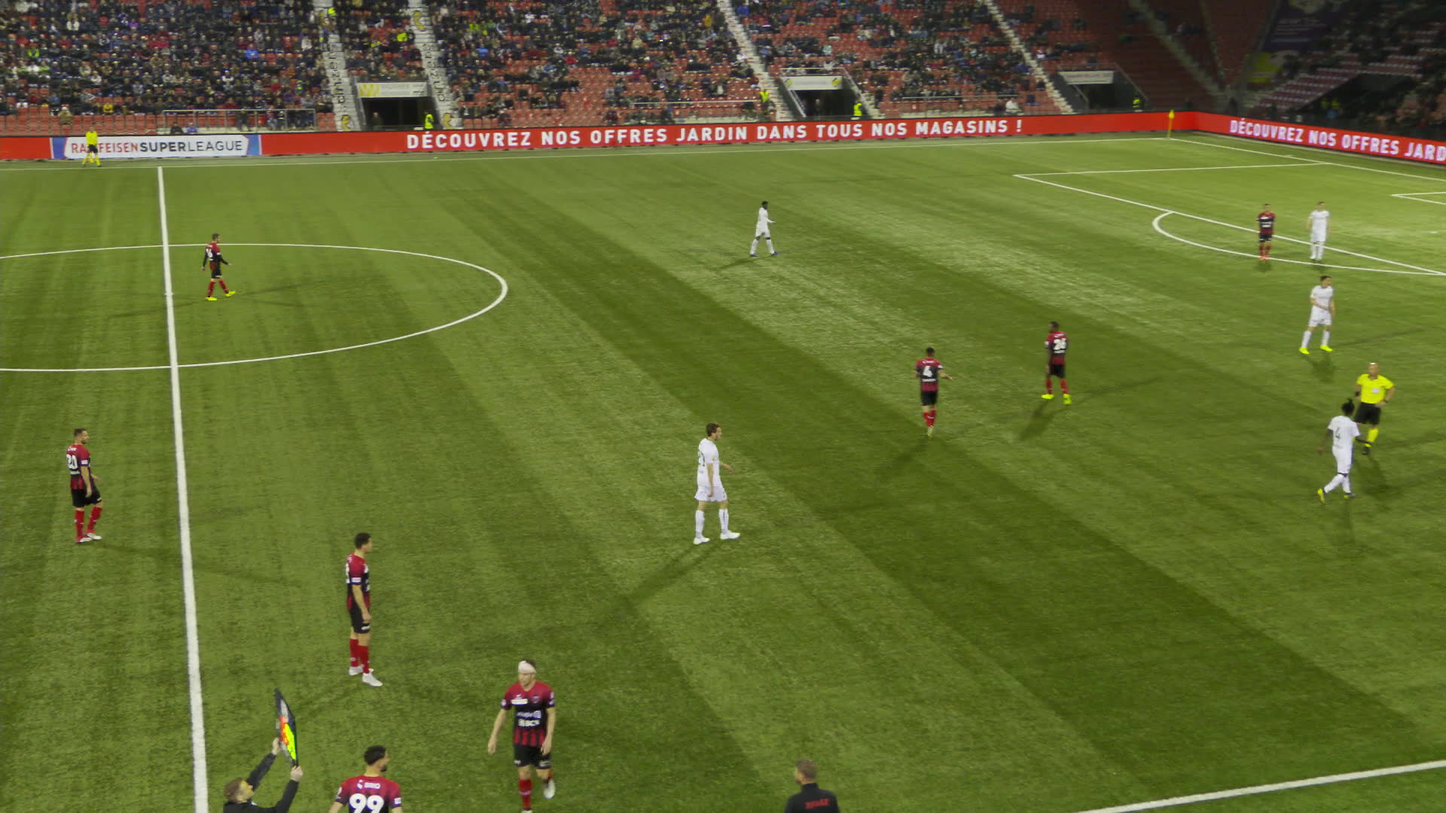player: (493, 659, 562, 812), (345, 531, 389, 690), (692, 421, 740, 544), (1322, 400, 1374, 504), (66, 427, 107, 544), (914, 349, 950, 441), (1042, 319, 1075, 403), (1302, 276, 1338, 353), (204, 233, 234, 300), (1312, 202, 1335, 262), (752, 199, 776, 256), (1258, 202, 1276, 260)
referee: (1350, 361, 1400, 456), (84, 124, 107, 166)
